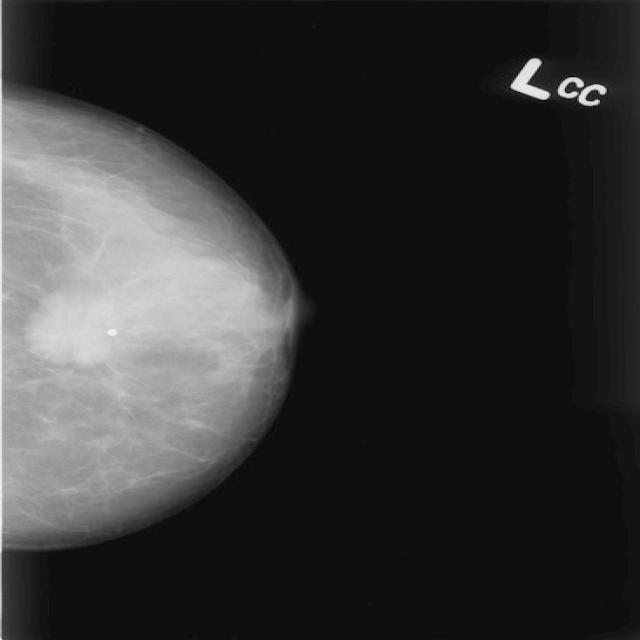tumour: (24, 289, 145, 362)
